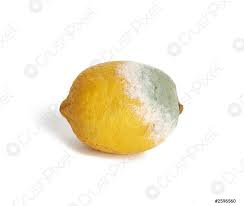lemon: (59, 60, 184, 155)
rotten: (114, 62, 183, 146)
